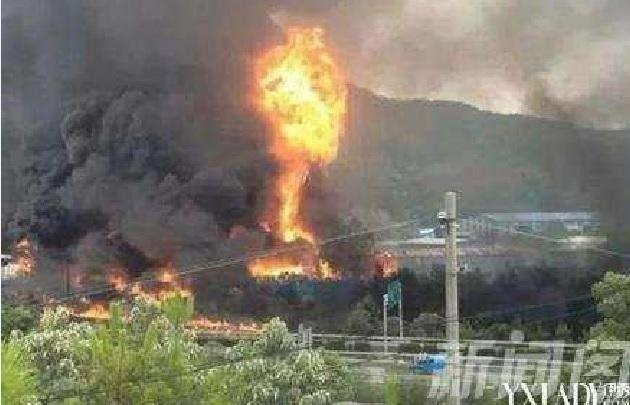fire: (247, 14, 351, 272), (9, 235, 37, 274)
